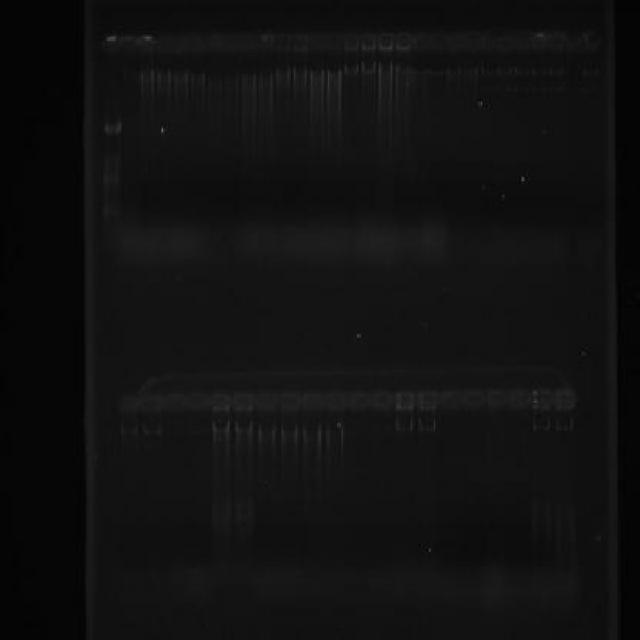L: (98, 26, 607, 62), (117, 382, 583, 418)
M: (97, 74, 126, 228)
P: (102, 119, 122, 136), (102, 202, 120, 220), (102, 172, 120, 186)
Pc: (554, 385, 577, 413), (508, 386, 532, 412), (462, 388, 486, 412), (370, 388, 392, 414), (440, 386, 462, 412), (485, 386, 507, 412), (532, 386, 554, 412), (326, 388, 346, 416), (348, 388, 368, 416), (140, 390, 162, 415), (186, 389, 208, 414), (496, 29, 515, 57), (582, 30, 604, 54), (416, 388, 438, 412), (530, 30, 550, 56), (211, 388, 231, 414), (279, 388, 299, 414), (302, 388, 322, 414), (394, 388, 414, 414), (136, 32, 156, 57), (233, 390, 253, 415), (257, 390, 277, 415), (164, 388, 183, 414), (118, 392, 138, 416), (514, 29, 531, 57), (154, 32, 172, 58), (274, 30, 292, 56), (548, 29, 566, 53), (223, 32, 242, 54), (292, 30, 310, 53), (394, 31, 412, 54), (462, 31, 480, 54), (240, 32, 258, 54), (258, 32, 276, 54), (360, 32, 378, 54), (564, 33, 582, 55), (189, 33, 206, 56), (326, 30, 343, 53), (429, 30, 446, 53), (172, 33, 188, 56), (481, 30, 496, 54), (309, 31, 326, 52), (446, 32, 462, 54), (208, 31, 223, 54), (119, 32, 136, 52), (344, 32, 361, 52), (412, 31, 428, 52), (104, 32, 120, 52), (378, 32, 394, 52)
